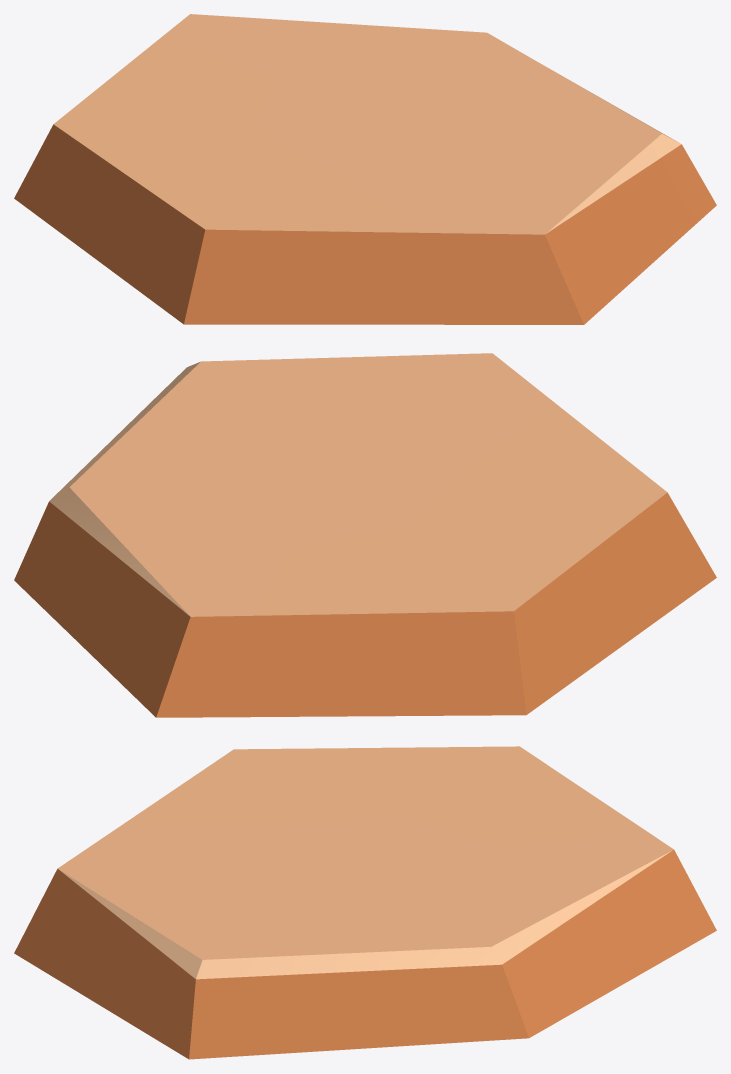
The model's file is cucda.fbx.
3 views of the same model, one above another, from view 1: azimuth 30°, elevation 25°; view 2: azimuth 150°, elevation 25°; view 3: azimuth 270°, elevation 25° (orthographic). The views are drawn at different scales.
Visible parts, largest first — view 1: cucda; view 2: cucda; view 3: cucda.
Part boxes in pixels (x1,y1,x2,y2): cucda: (14,14,716,324); cucda: (14,353,716,717); cucda: (14,746,716,1059).
Size of the model in its own units: 190 by 27.24 by 227.
